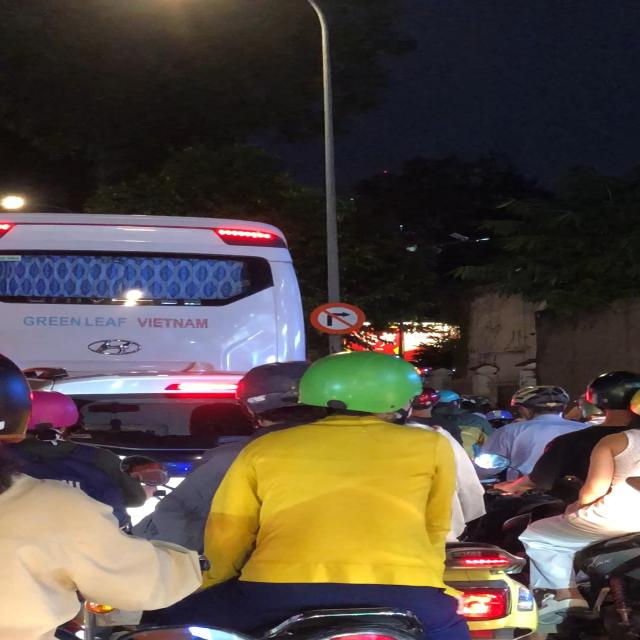Bien bao cam re phai: (301, 300, 366, 332)
